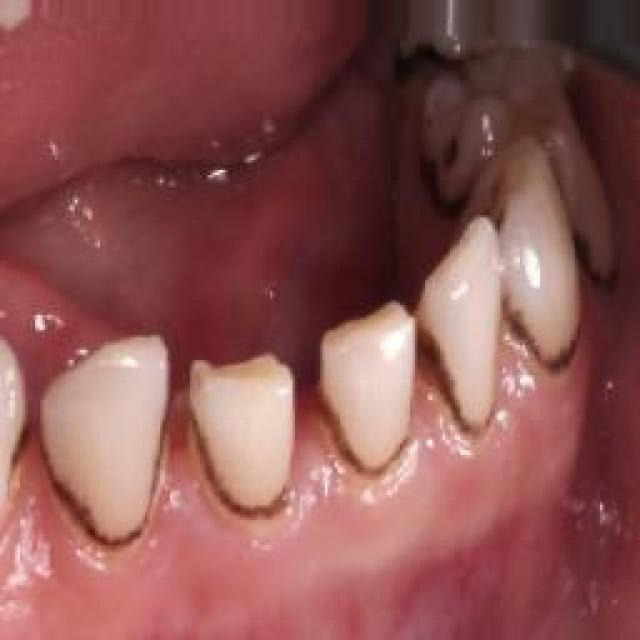decay: (35, 478, 160, 560), (190, 453, 298, 528), (500, 308, 580, 370), (428, 130, 478, 218), (410, 340, 465, 418), (565, 240, 625, 292), (327, 403, 365, 485)
